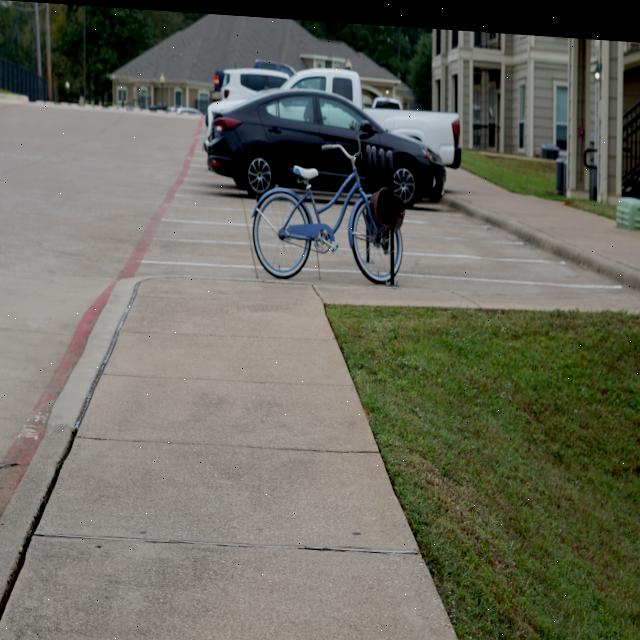Automobile: (205, 57, 461, 203)
Obstacle: (252, 140, 405, 279), (616, 188, 640, 221)
Road: (0, 102, 255, 513), (397, 198, 624, 292), (292, 208, 370, 280)
Sidewalk: (0, 274, 640, 640), (442, 163, 640, 282)
